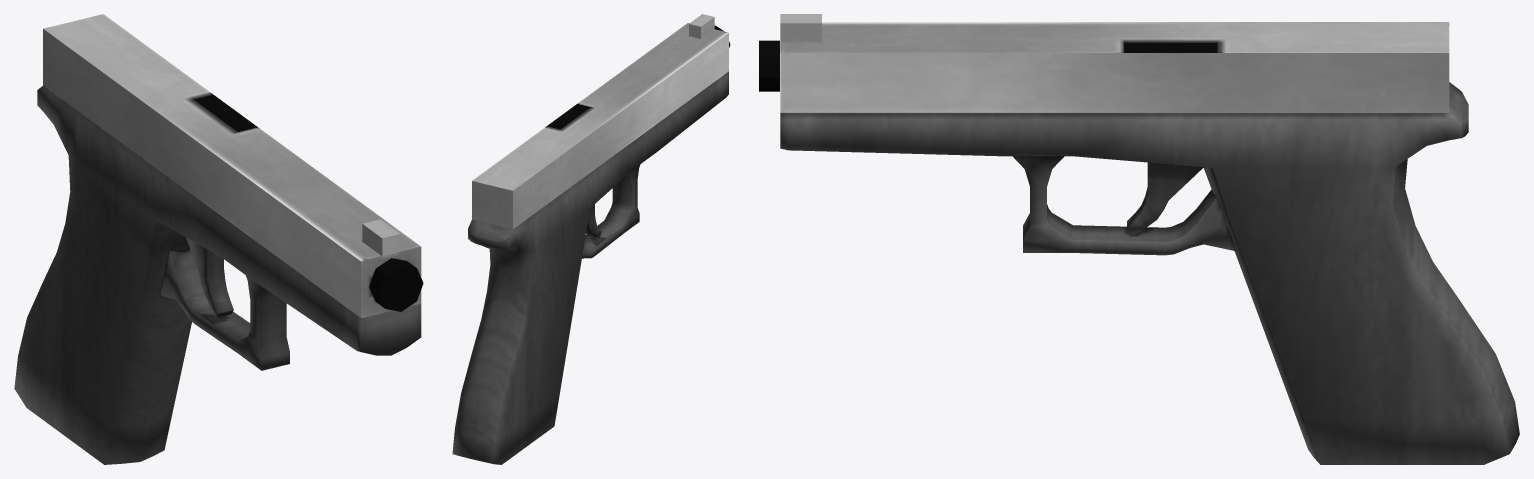
Rendered from itempistol.dae.
3 renders of one model, left to right at view 1: azimuth 30°, elevation 25°; view 2: azimuth 150°, elevation 25°; view 3: azimuth 270°, elevation 25°, orthographic. The views are drawn at different scales.
Visible parts, largest first — view 1: TOP; view 2: TOP; view 3: TOP.
Part boxes in pixels (bbox=[...]): TOP: bbox=[14, 14, 423, 464]; TOP: bbox=[452, 14, 730, 464]; TOP: bbox=[759, 14, 1519, 464].
Size of the model in its own units: 0.3503 by 3.64 by 2.27.
Materials: 1 (1 with a texture image).
